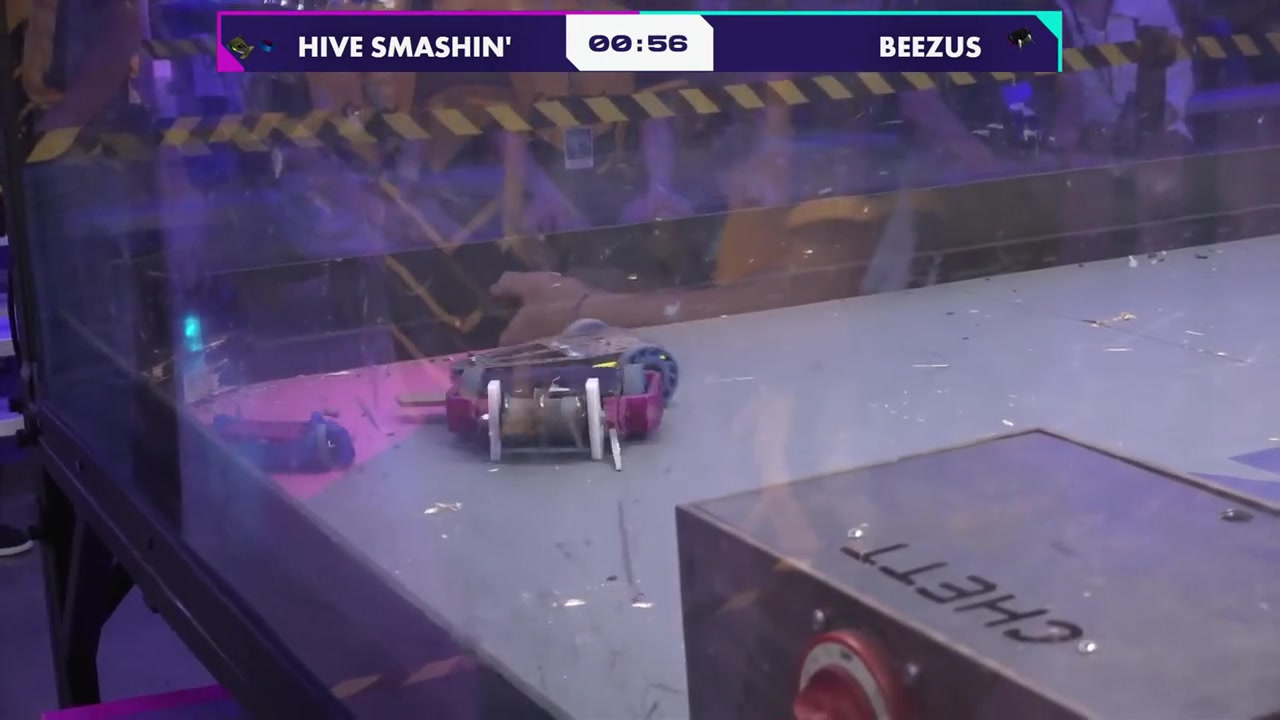combatbot: (442, 362, 666, 461), (441, 315, 681, 403)
minibot: (206, 410, 359, 473)
